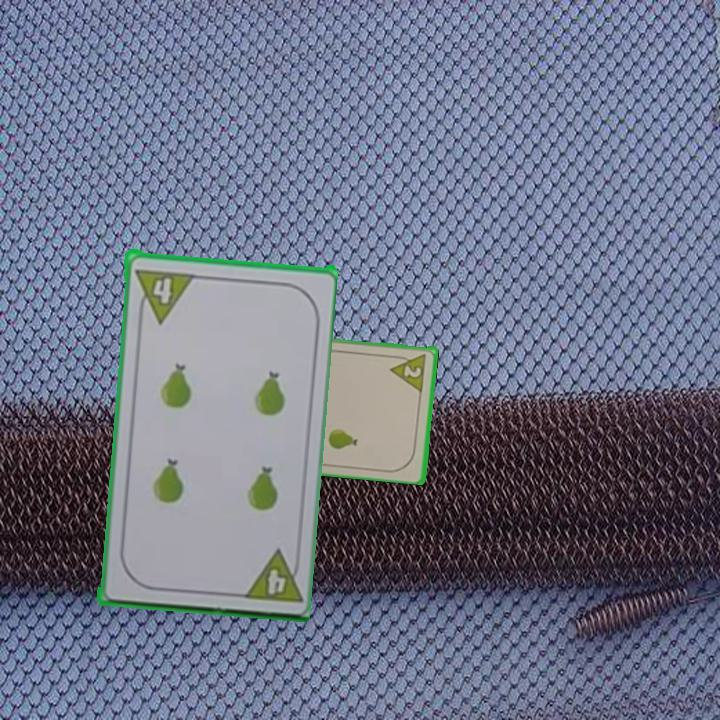2p: (387, 350, 430, 394)
4p: (147, 272, 195, 324), (263, 565, 288, 597)
